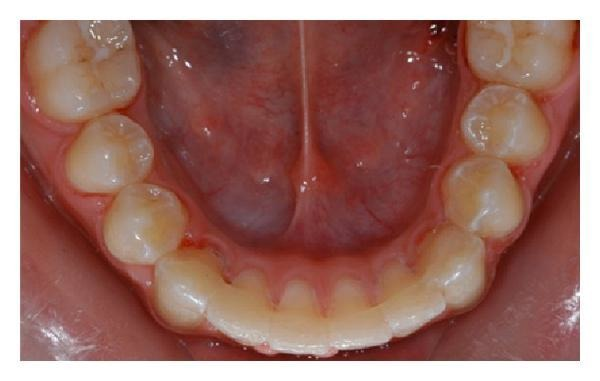LL1BC_healthy: (440, 157, 528, 244)
LL1M_healthy: (461, 21, 579, 94)
LL2BC_healthy: (457, 83, 555, 171)
LLCI_healthy: (331, 274, 392, 359)
LLC_healthy: (412, 224, 490, 314)
LLLI_healthy: (377, 257, 448, 337)
LR1BC_healthy: (103, 184, 190, 267)
LR1M_decay: (24, 19, 141, 126)
LR2BC_healthy: (64, 114, 157, 199)
LRCI_healthy: (274, 278, 334, 358)
LRC_healthy: (150, 242, 226, 333)
LRLI_healthy: (205, 265, 275, 345)
